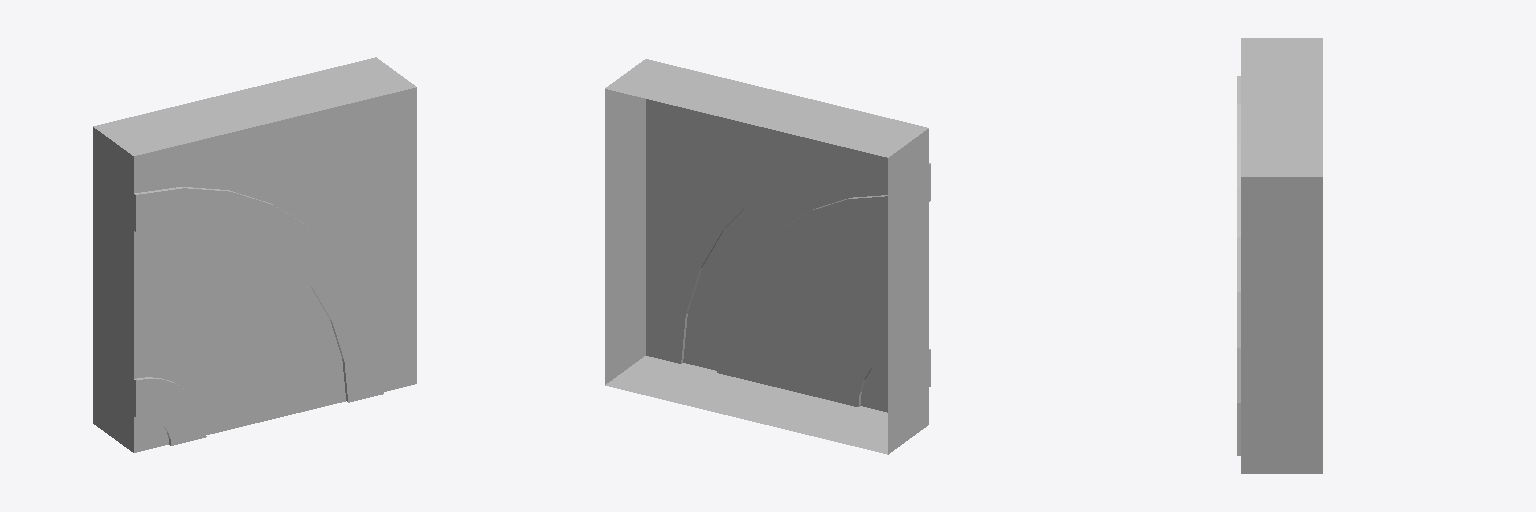
File: track-corner-small.obj
The picture shows the model from 3 angles: view 1: azimuth 30°, elevation 25°; view 2: azimuth 150°, elevation 25°; view 3: azimuth 270°, elevation 25°; orthographic projection.
Visible parts, largest first — view 1: track-corner-small_Cube.639; view 2: track-corner-small_Cube.639; view 3: track-corner-small_Cube.639.
Part boxes in pixels (left/top/right/bottom): track-corner-small_Cube.639: left=93, top=57, right=416, bottom=452; track-corner-small_Cube.639: left=605, top=59, right=930, bottom=454; track-corner-small_Cube.639: left=1237, top=38, right=1322, bottom=473.
Size of the model in its own units: 8 by 8 by 2.1.